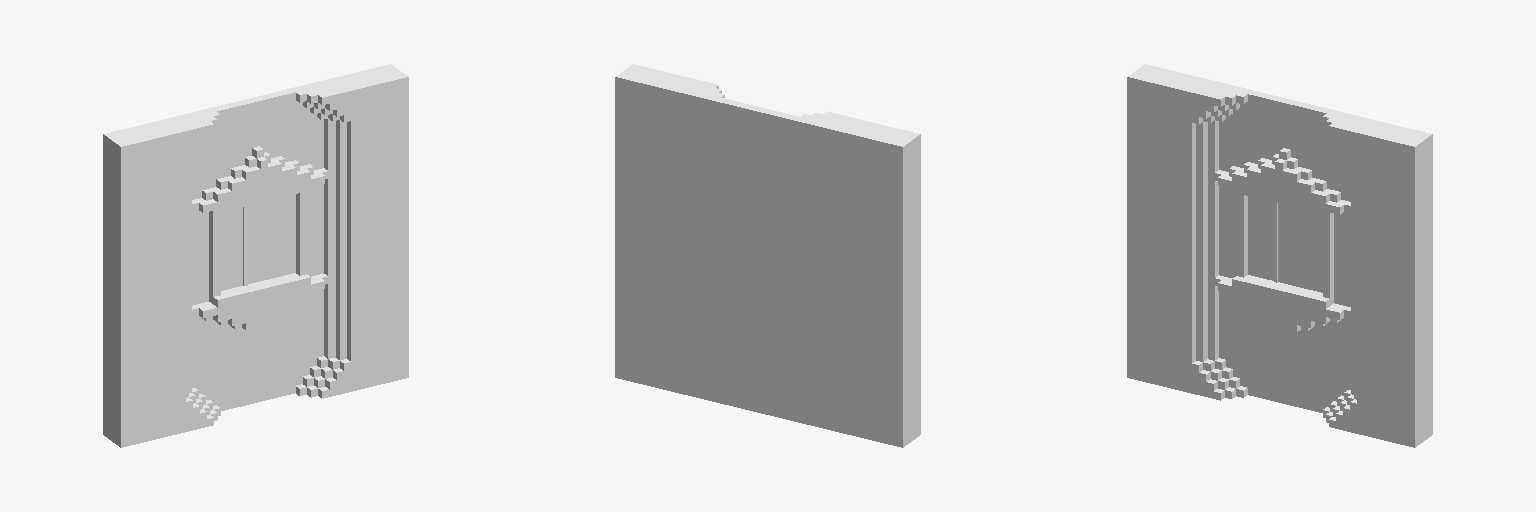
The model's file is wallWithWindow5-2-lod1.obj.
3 views of the same model, side by side, from view 1: azimuth 30°, elevation 25°; view 2: azimuth 150°, elevation 25°; view 3: azimuth 330°, elevation 25° (orthographic).
Visible parts, largest first — view 1: lod1; view 2: lod1; view 3: lod1.
Boxes of the visible parts, box(x1,y1,x2,y2) form: lod1: box(103, 64, 408, 447); lod1: box(615, 64, 920, 447); lod1: box(1127, 64, 1432, 447).
Bounding box in the file's own units: 16 × 16 × 1.7.